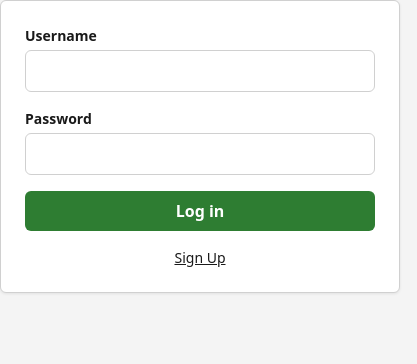
Scenario: LoginForm (Step 13) › errors › on a 500 with no JSON body (data: null): still shows "Something went wrong"
The width and height of the screenshot is (417, 364).
Type "someone" into the field labelled "Username" at (200, 71), box [25, 50, 375, 92]
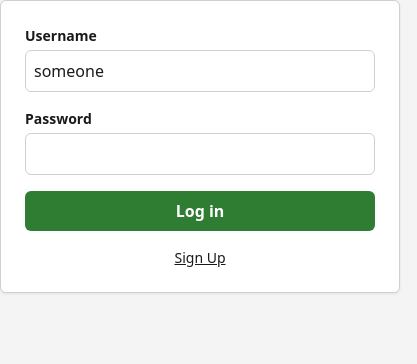
Type "secret123" into the password field labelled "Password" at (200, 154), box [25, 133, 375, 175]
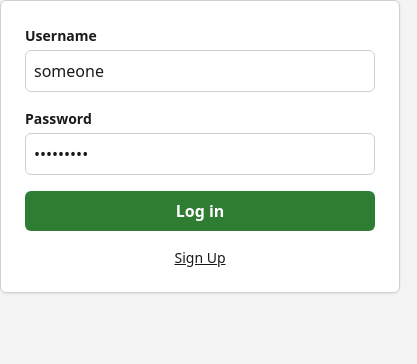
Click the button "Log in" at (200, 211), box [25, 191, 375, 231]
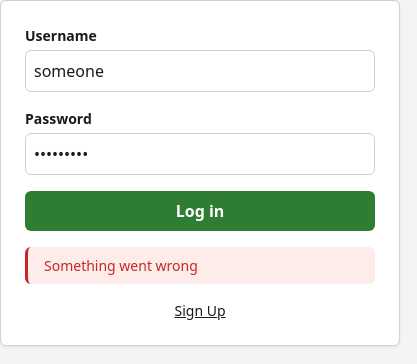
Result: the list item "Something went wrong" is shown at [44, 256, 198, 275]
